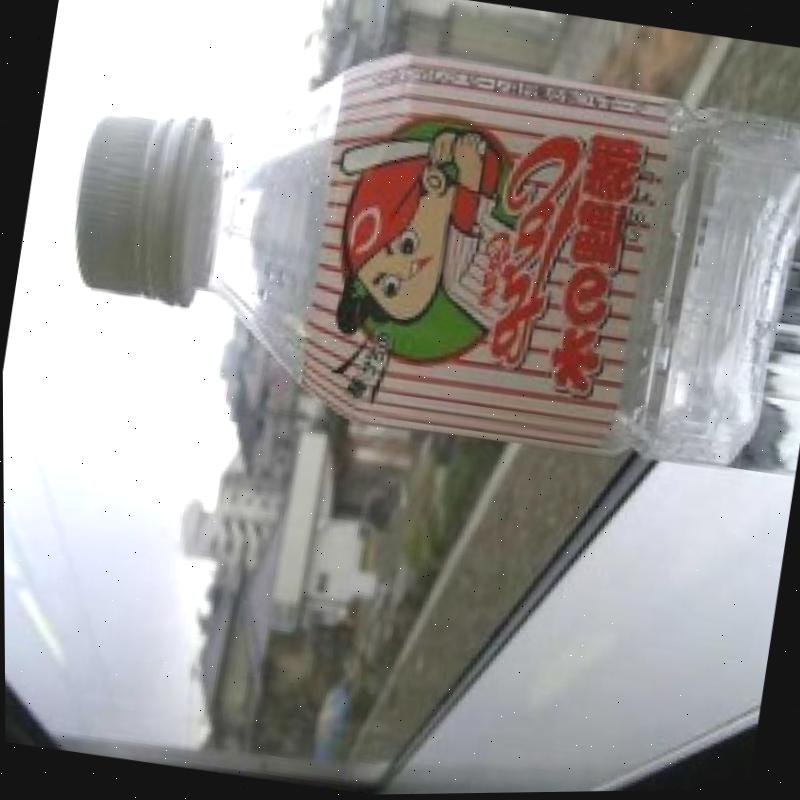botella: (43, 0, 800, 491)
